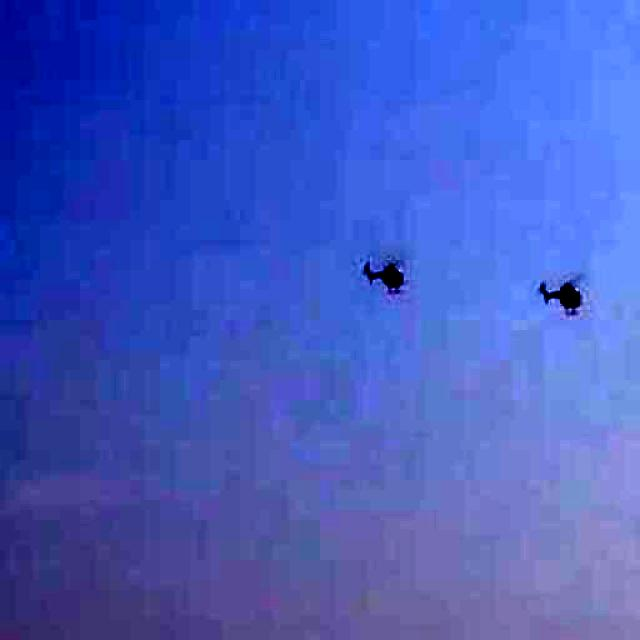drone: (521, 262, 599, 329), (355, 245, 411, 308)
